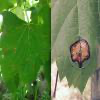grape leaf black rot: (0, 3, 51, 88)
